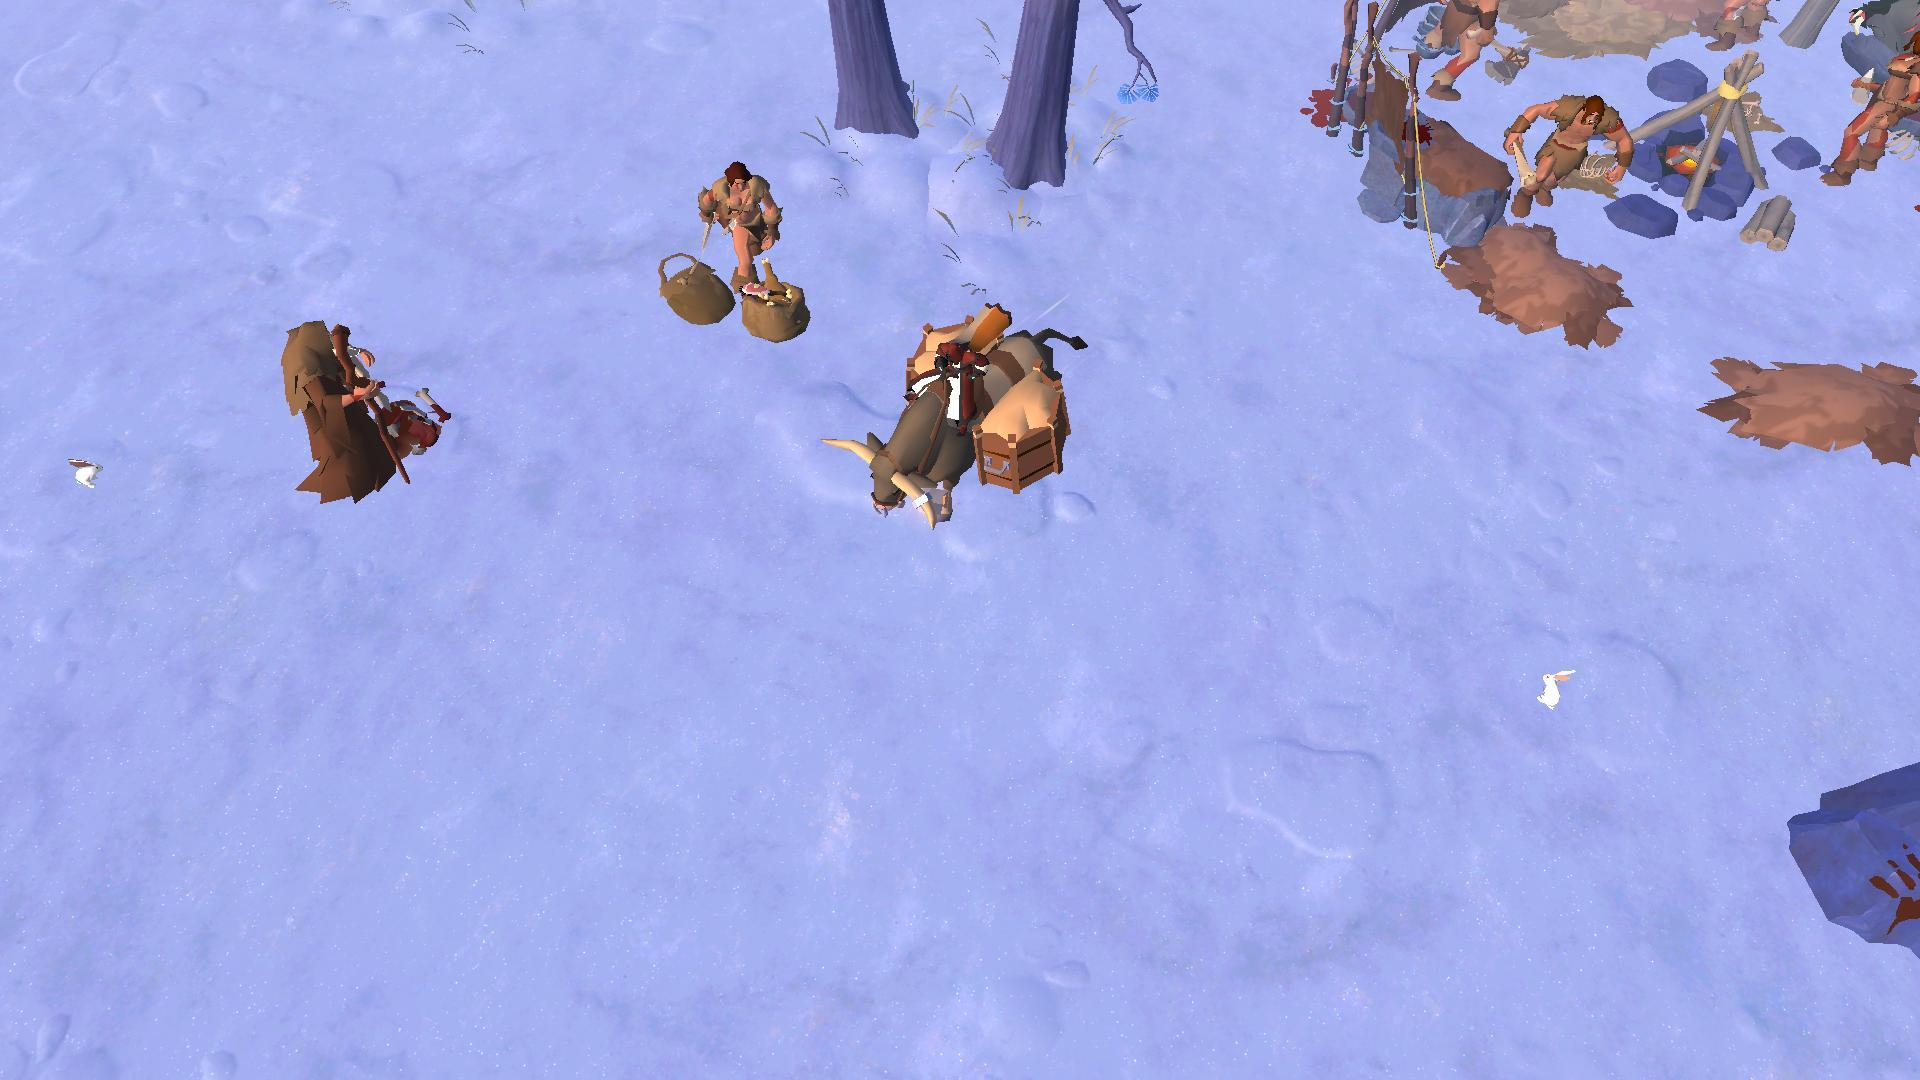enemy_factionKeeper: (268, 309, 401, 512), (1497, 95, 1629, 224), (1824, 36, 1920, 182), (691, 153, 778, 281), (1419, 0, 1514, 99)
